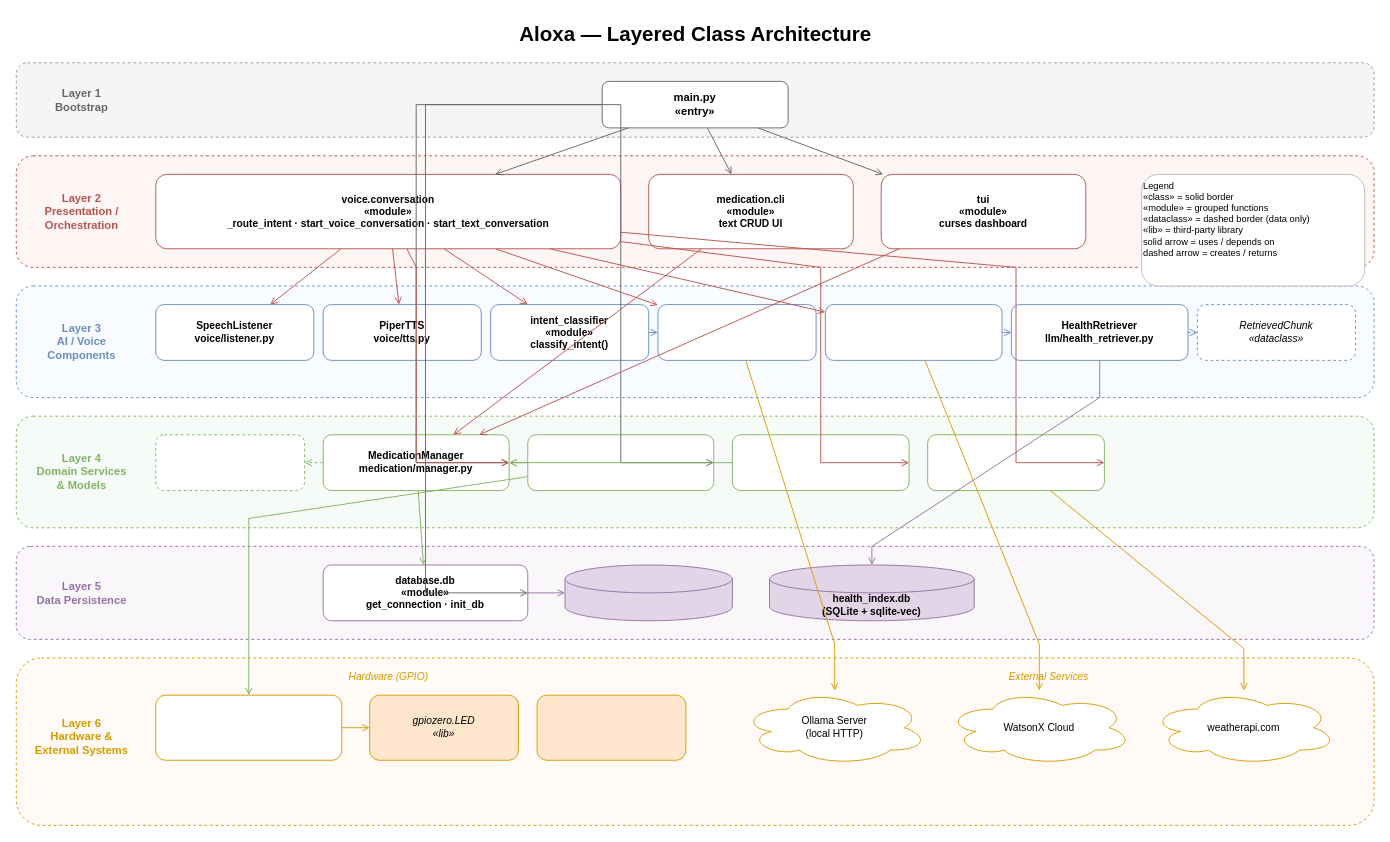
The diagram is 1390 pixels wide and 842 high, and some of its shapes have lost their labels. Here are the shapes that lost their labels. From the top down, the centre of each, then its label:
(736,332): OllamaClient llm/ollama_client.py
(913,332): WatsonHealthClient llm/watson_client.py
(230,462): Medication «dataclass»
(620,462): ReminderScheduler medication/scheduler.py
(820,462): intake_parser «module» parse_intake_report()
(1015,462): WeatherClient weather/client.py
(648,592): aloxa.db (SQLite)
(248,727): compartment_leds «module» refresh · all_off
(611,727): gpiozero.Servo «lib»
